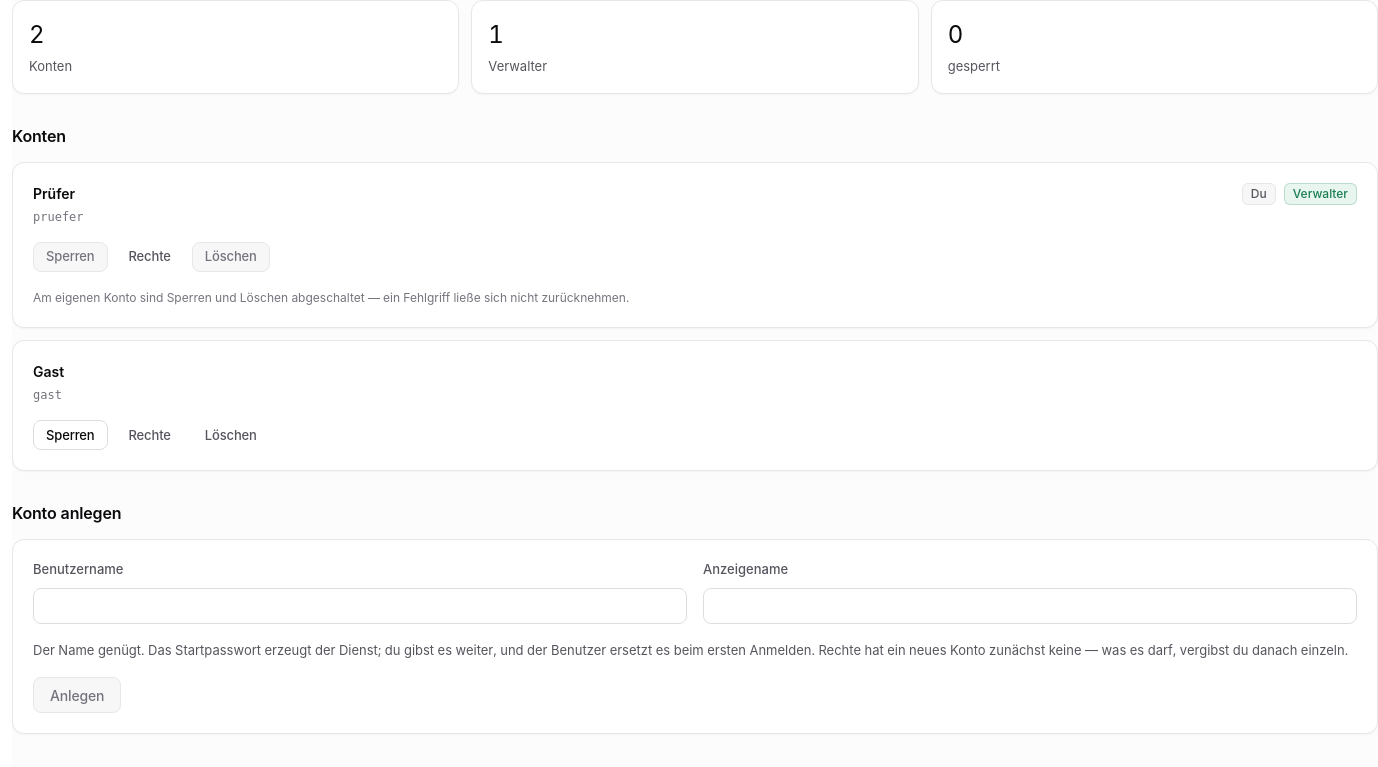
Scenario: Verwaltungsseite › Passwort zuruecksetzen › erzeugt eines und zeigt es genau einmal
Click the button with aria-label "Rechte von gast". click: (150, 435)
box: x1=116 y1=420 x2=184 y2=450
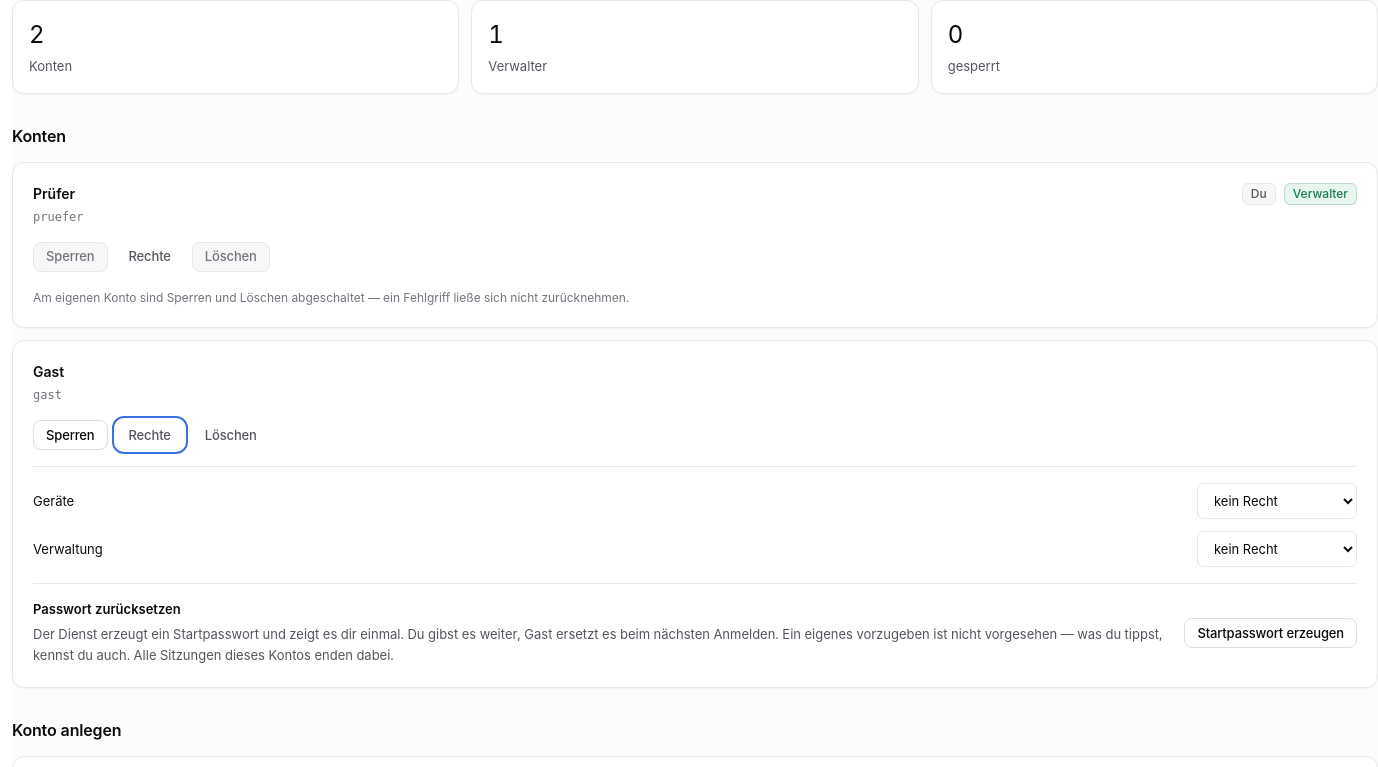
Click the button with aria-label "Passwort von gast zurücksetzen". click: (1271, 634)
box: x1=1184 y1=618 x2=1357 y2=648
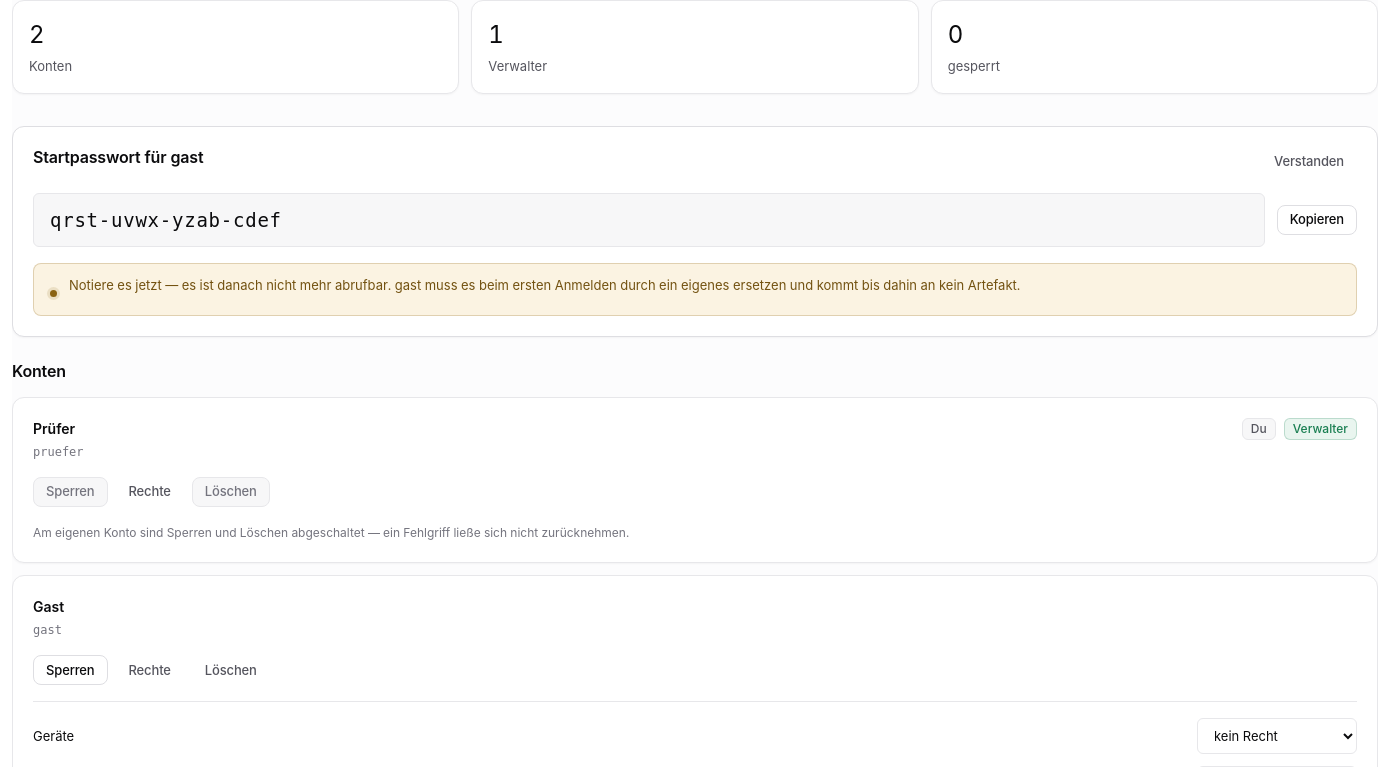
Expected: the text "qrst-uvwx-yzab-cdef" is shown, x1=33 y1=192 x2=1265 y2=247
